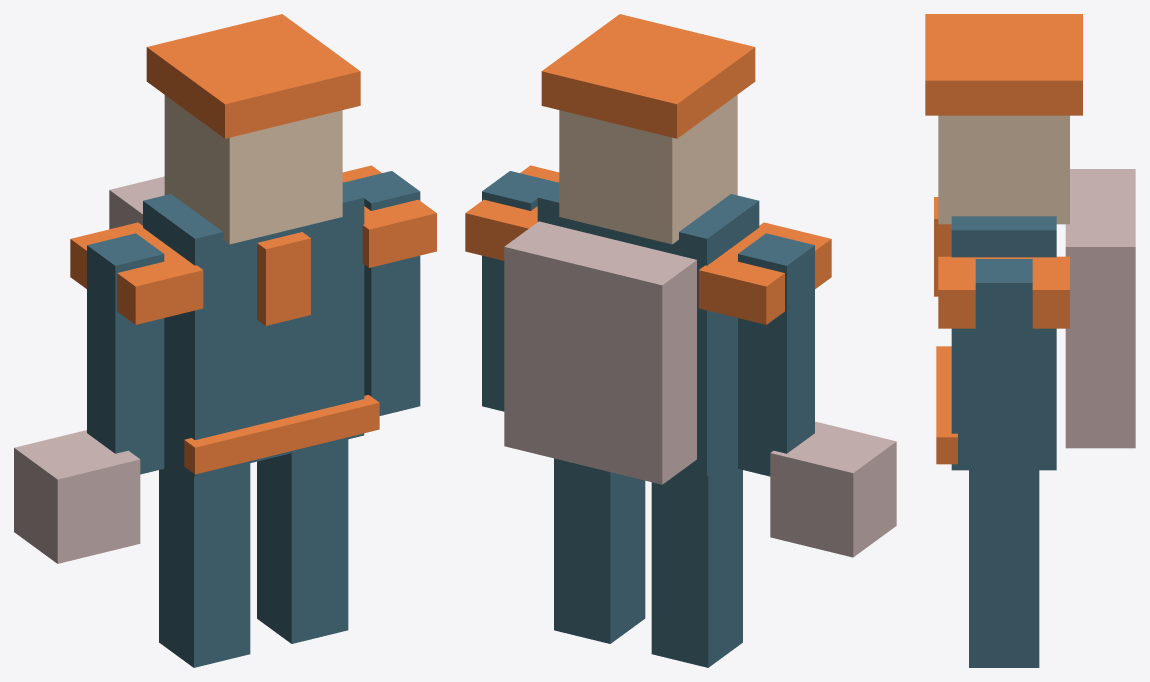
The model's file is 03_brant_voidrill_tactician_under_waystone.glb.
3 views of the same model, side by side, from view 1: azimuth 30°, elevation 25°; view 2: azimuth 150°, elevation 25°; view 3: azimuth 270°, elevation 25° (orthographic).
Visible parts, largest first — view 1: Brant Voidrill, Tactician under Waystone; view 2: Brant Voidrill, Tactician under Waystone; view 3: Brant Voidrill, Tactician under Waystone.
Boxes of the visible parts, box(x1,y1,x2,y2) form: Brant Voidrill, Tactician under Waystone: box(14, 14, 436, 667); Brant Voidrill, Tactician under Waystone: box(465, 14, 896, 667); Brant Voidrill, Tactician under Waystone: box(925, 14, 1135, 667).
Bounding box in the file's own units: 1.02 × 1.5 × 0.4905.
